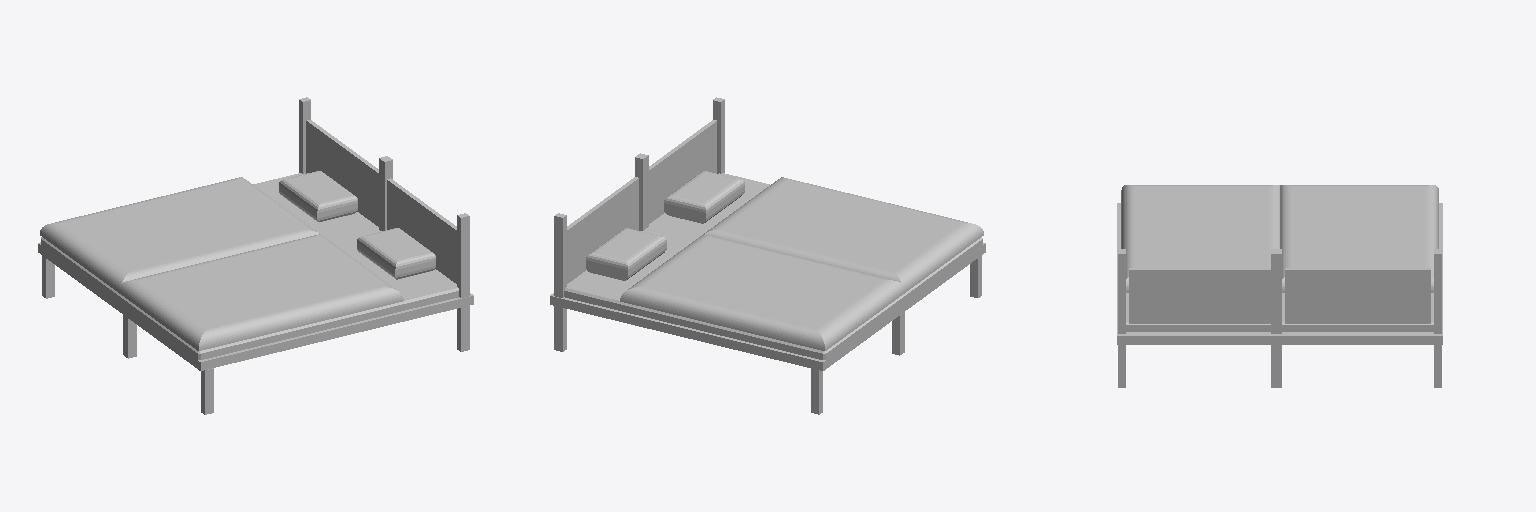
File: doppelbett.obj
3 views of the same model, side by side, from view 1: azimuth 30°, elevation 25°; view 2: azimuth 150°, elevation 25°; view 3: azimuth 270°, elevation 25° (orthographic).
Parts seen in each view (by area): view 1: Box008, Box017, Box007, Box005, Box015, Box006, Box009, Box018, Box016, Box002, Box014, Box010 (+1 smaller); view 2: Box017, Box008, Box016, Box014, Box015, Box006, Box018, Box009, Box007, Box010, Box005, Box002 (+2 smaller); view 3: Box017, Box008, Box015, Box006, Box005, Box014, Box016, Box007, Box002, Box010, Box001.
Boxes of the visible parts, x1,y1,x2,y2 form: Box008: [118, 234, 403, 350]; Box017: [40, 177, 319, 293]; Box007: [120, 230, 458, 359]; Box005: [116, 293, 473, 370]; Box015: [306, 120, 378, 226]; Box006: [387, 178, 456, 283]; Box009: [357, 228, 435, 279]; Box018: [279, 171, 357, 221]; Box016: [41, 173, 378, 302]; Box002: [457, 213, 469, 351]; Box014: [38, 220, 369, 310]; Box010: [299, 97, 310, 173]; Box017: [620, 234, 904, 350]; Box008: [704, 177, 983, 293]; Box016: [564, 230, 904, 359]; Box014: [550, 293, 907, 370]; Box015: [567, 177, 638, 283]; Box006: [649, 120, 716, 223]; Box018: [586, 228, 666, 280]; Box009: [664, 171, 744, 223]; Box007: [645, 173, 982, 302]; Box010: [554, 213, 566, 351]; Box005: [654, 220, 985, 309]; Box002: [713, 97, 724, 173]; Box017: [1280, 185, 1438, 292]; Box008: [1121, 185, 1282, 292]; Box015: [1285, 268, 1430, 323]; Box006: [1129, 268, 1270, 323]; Box005: [1117, 203, 1286, 344]; Box014: [1274, 203, 1442, 344]; Box016: [1282, 293, 1433, 331]; Box007: [1126, 293, 1270, 331]; Box002: [1118, 249, 1125, 387]; Box010: [1434, 249, 1441, 387]; Box001: [1271, 249, 1278, 387].
Size of the model in its own units: 126 by 59.06 by 130.